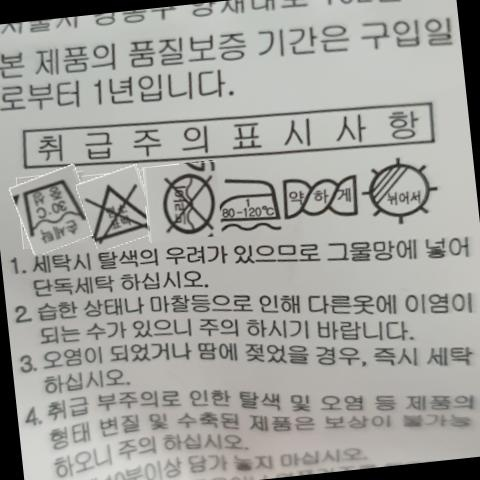DN_dry_clean: (156, 167, 217, 238)
dry_flat_in_shade: (369, 157, 437, 226)
hand_wash: (20, 170, 84, 248)
iron_low: (216, 171, 280, 231)
non_chlorine_bleach: (90, 170, 149, 243)
wring: (277, 172, 364, 226)
